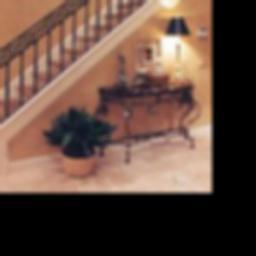Escaleras: (0, 0, 182, 168)
Matera: (45, 114, 116, 176)
